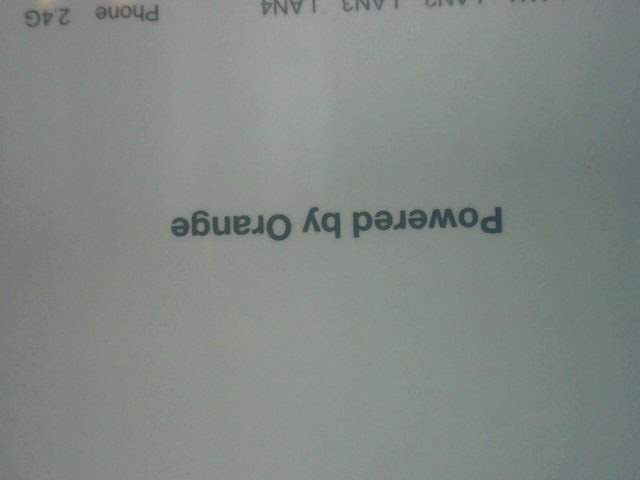AS_PowerByOrange: (164, 195, 520, 249)
